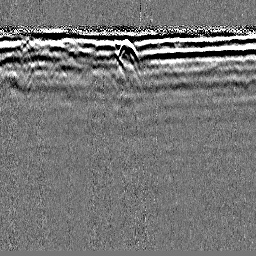cavity: (115, 38, 139, 61)
